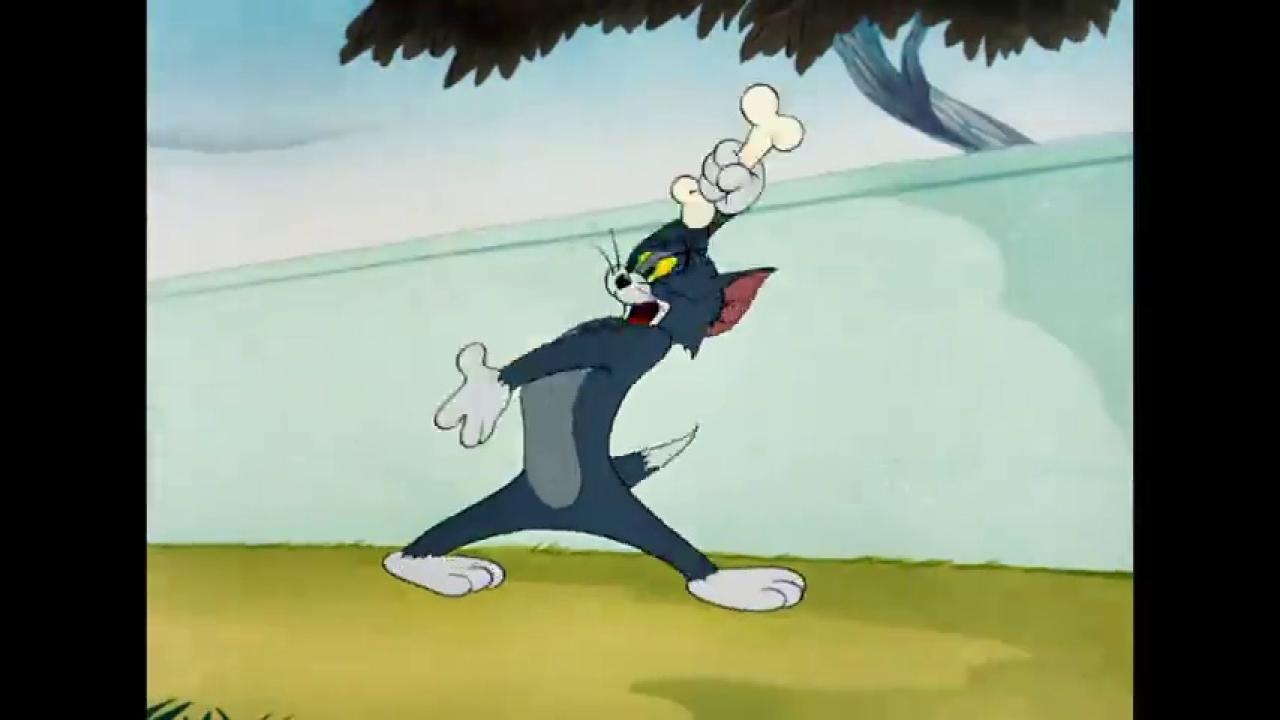Tom: (380, 137, 807, 613)
